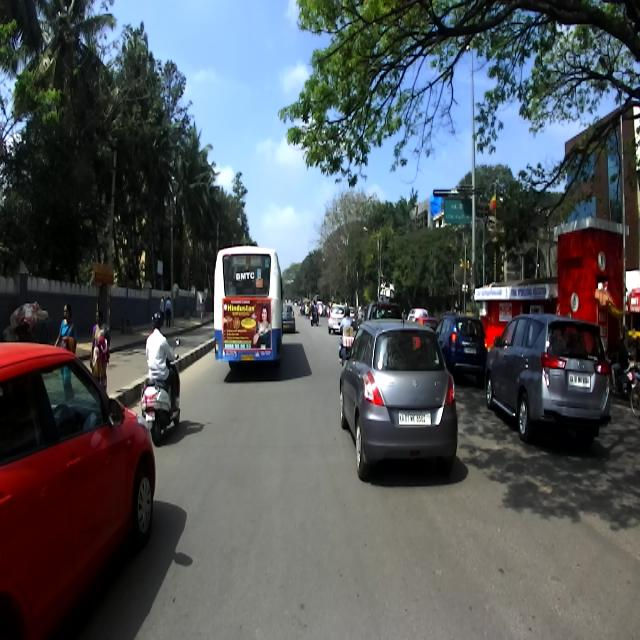bus ahead at: (212, 242, 284, 376)
car ahead at: (4, 331, 158, 599), (482, 306, 615, 449), (340, 312, 457, 471)
motorcycle ahead at: (141, 377, 183, 440)
